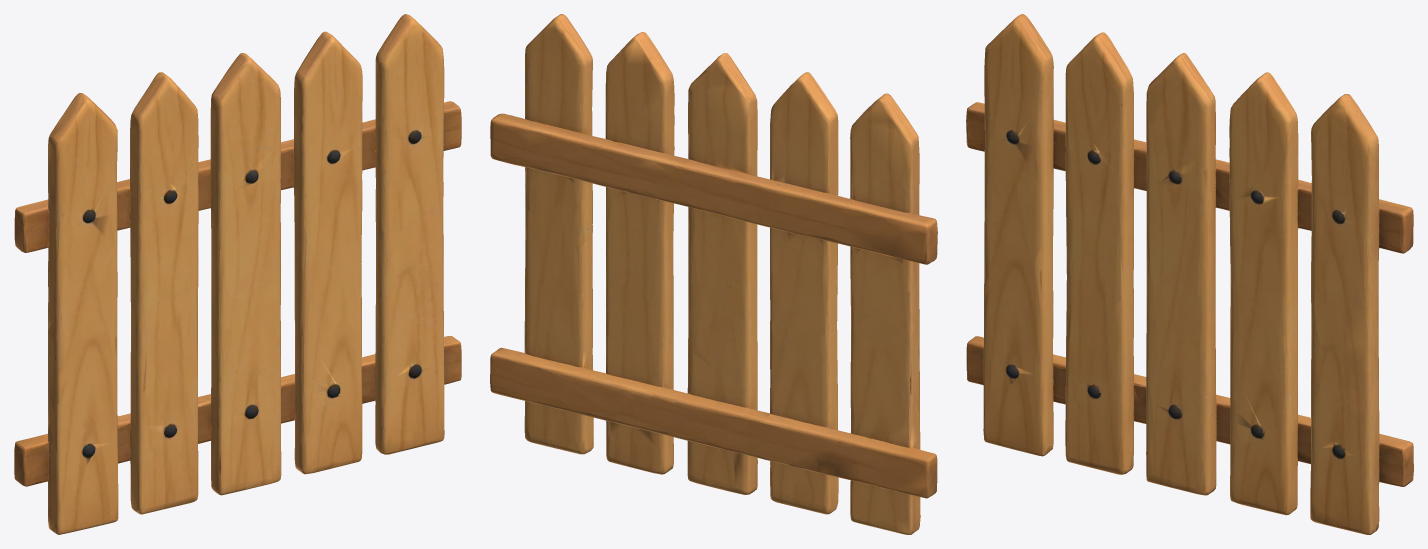
The model's file is upm_mu5vznq74bm.glb.
3 renders of one model, left to right at view 1: azimuth 30°, elevation 25°; view 2: azimuth 150°, elevation 25°; view 3: azimuth 330°, elevation 25°, orthographic.
Size of the model in its own units: 1.9 by 1.79 by 0.1659.
Materials: 1 (1 with a texture image).
